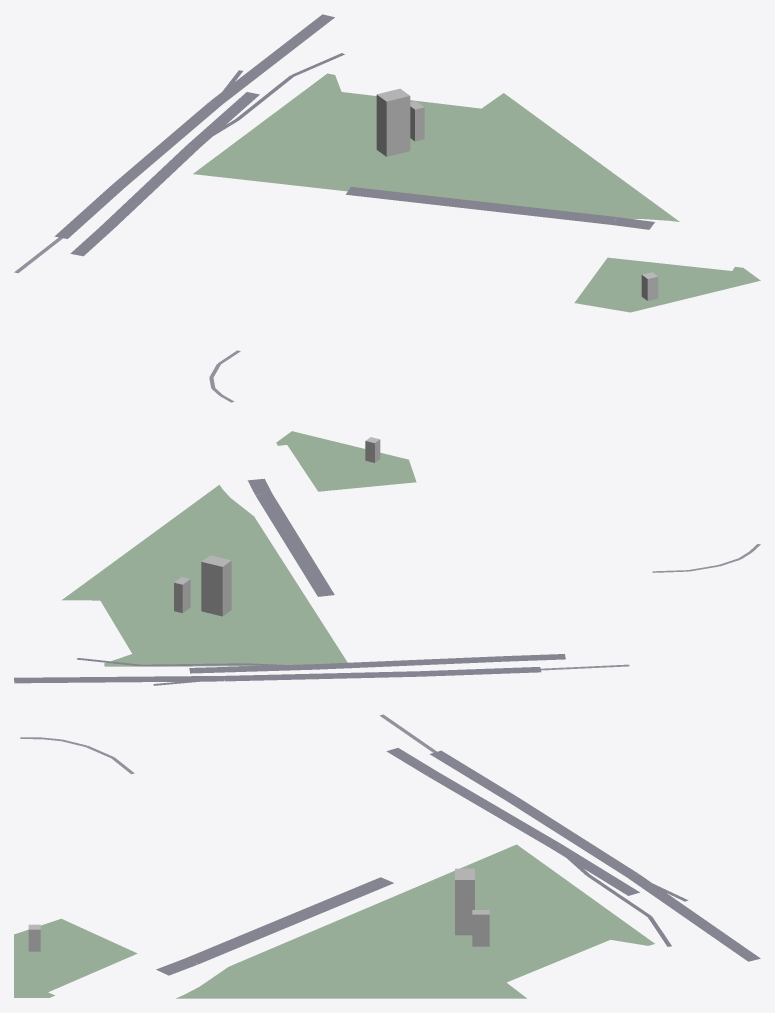
Rendered from 111_83_mid.glb.
3 renders of one model, top to bottom at view 1: azimuth 30°, elevation 25°; view 2: azimuth 150°, elevation 25°; view 3: azimuth 270°, elevation 25°, orthographic. The views are drawn at different scales.
Bounding box in the file's own units: 464 × 43.99 × 535.
